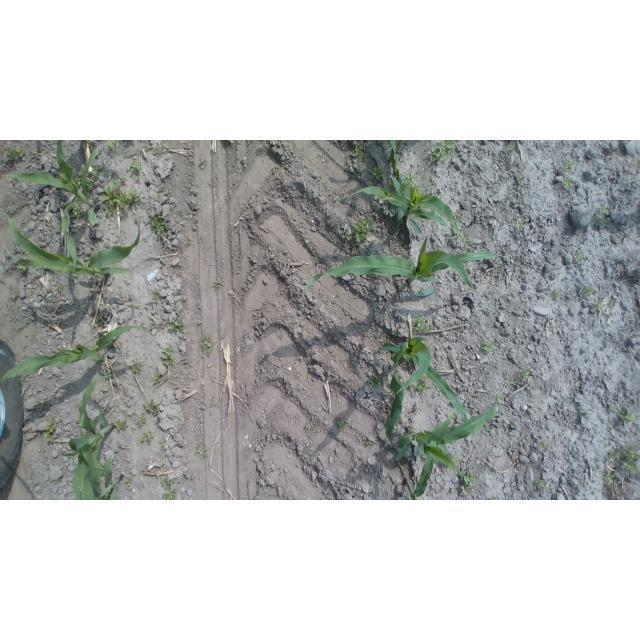Maize: (347, 140, 468, 262), (308, 233, 500, 297), (397, 395, 500, 497), (381, 338, 468, 443), (0, 140, 100, 230), (0, 324, 146, 384), (2, 213, 140, 276), (63, 375, 114, 500), (91, 454, 122, 500)
Weeds: (102, 180, 141, 217), (428, 140, 455, 164), (352, 218, 373, 243), (623, 444, 639, 473), (149, 213, 170, 235), (161, 477, 178, 500), (5, 146, 25, 162), (412, 317, 430, 334), (44, 420, 57, 443), (160, 347, 176, 365), (144, 400, 160, 417), (168, 317, 185, 333), (621, 408, 637, 425), (597, 206, 609, 228), (460, 469, 476, 485), (72, 204, 89, 219), (128, 162, 142, 180), (130, 360, 145, 374), (371, 167, 385, 182), (604, 468, 616, 484), (604, 448, 620, 460), (113, 419, 127, 432), (403, 172, 417, 185), (86, 177, 96, 194), (140, 431, 153, 444), (149, 291, 162, 304), (369, 376, 382, 389), (483, 340, 496, 353), (355, 141, 364, 159), (202, 336, 212, 352), (107, 140, 120, 152), (416, 379, 427, 393), (90, 164, 102, 176), (340, 229, 352, 241), (565, 159, 576, 171), (597, 299, 608, 311), (71, 174, 81, 186), (152, 372, 162, 383), (460, 485, 470, 496), (537, 480, 547, 491), (338, 419, 347, 431), (518, 220, 527, 231), (536, 442, 548, 450), (553, 288, 561, 300), (17, 264, 27, 273), (53, 283, 63, 292), (364, 439, 374, 448), (519, 370, 529, 379), (583, 287, 594, 295), (216, 276, 223, 288), (450, 454, 459, 463), (563, 179, 571, 189), (99, 465, 105, 478), (8, 293, 19, 300), (78, 164, 84, 176), (575, 255, 585, 262), (139, 416, 146, 424), (199, 159, 205, 168), (610, 406, 618, 412), (357, 167, 365, 173), (397, 140, 406, 145), (126, 479, 132, 486), (102, 405, 108, 412), (117, 342, 123, 349), (153, 195, 161, 200), (388, 179, 393, 187), (64, 454, 73, 458), (153, 147, 159, 153), (56, 477, 62, 483), (135, 216, 141, 222), (76, 417, 81, 424), (195, 449, 201, 454), (517, 177, 522, 183), (498, 396, 503, 401), (409, 384, 415, 388), (57, 225, 61, 231), (156, 419, 160, 424), (511, 424, 515, 429), (368, 244, 372, 249), (482, 152, 486, 156)
